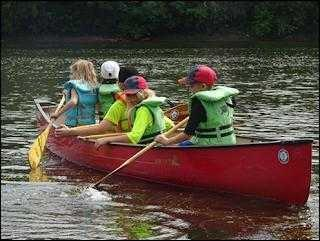kayak: (42, 126, 315, 204)
